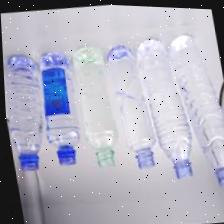plastic: (134, 23, 198, 197), (168, 23, 224, 194), (63, 37, 126, 178), (100, 39, 160, 172), (27, 45, 85, 175), (2, 52, 52, 178)
